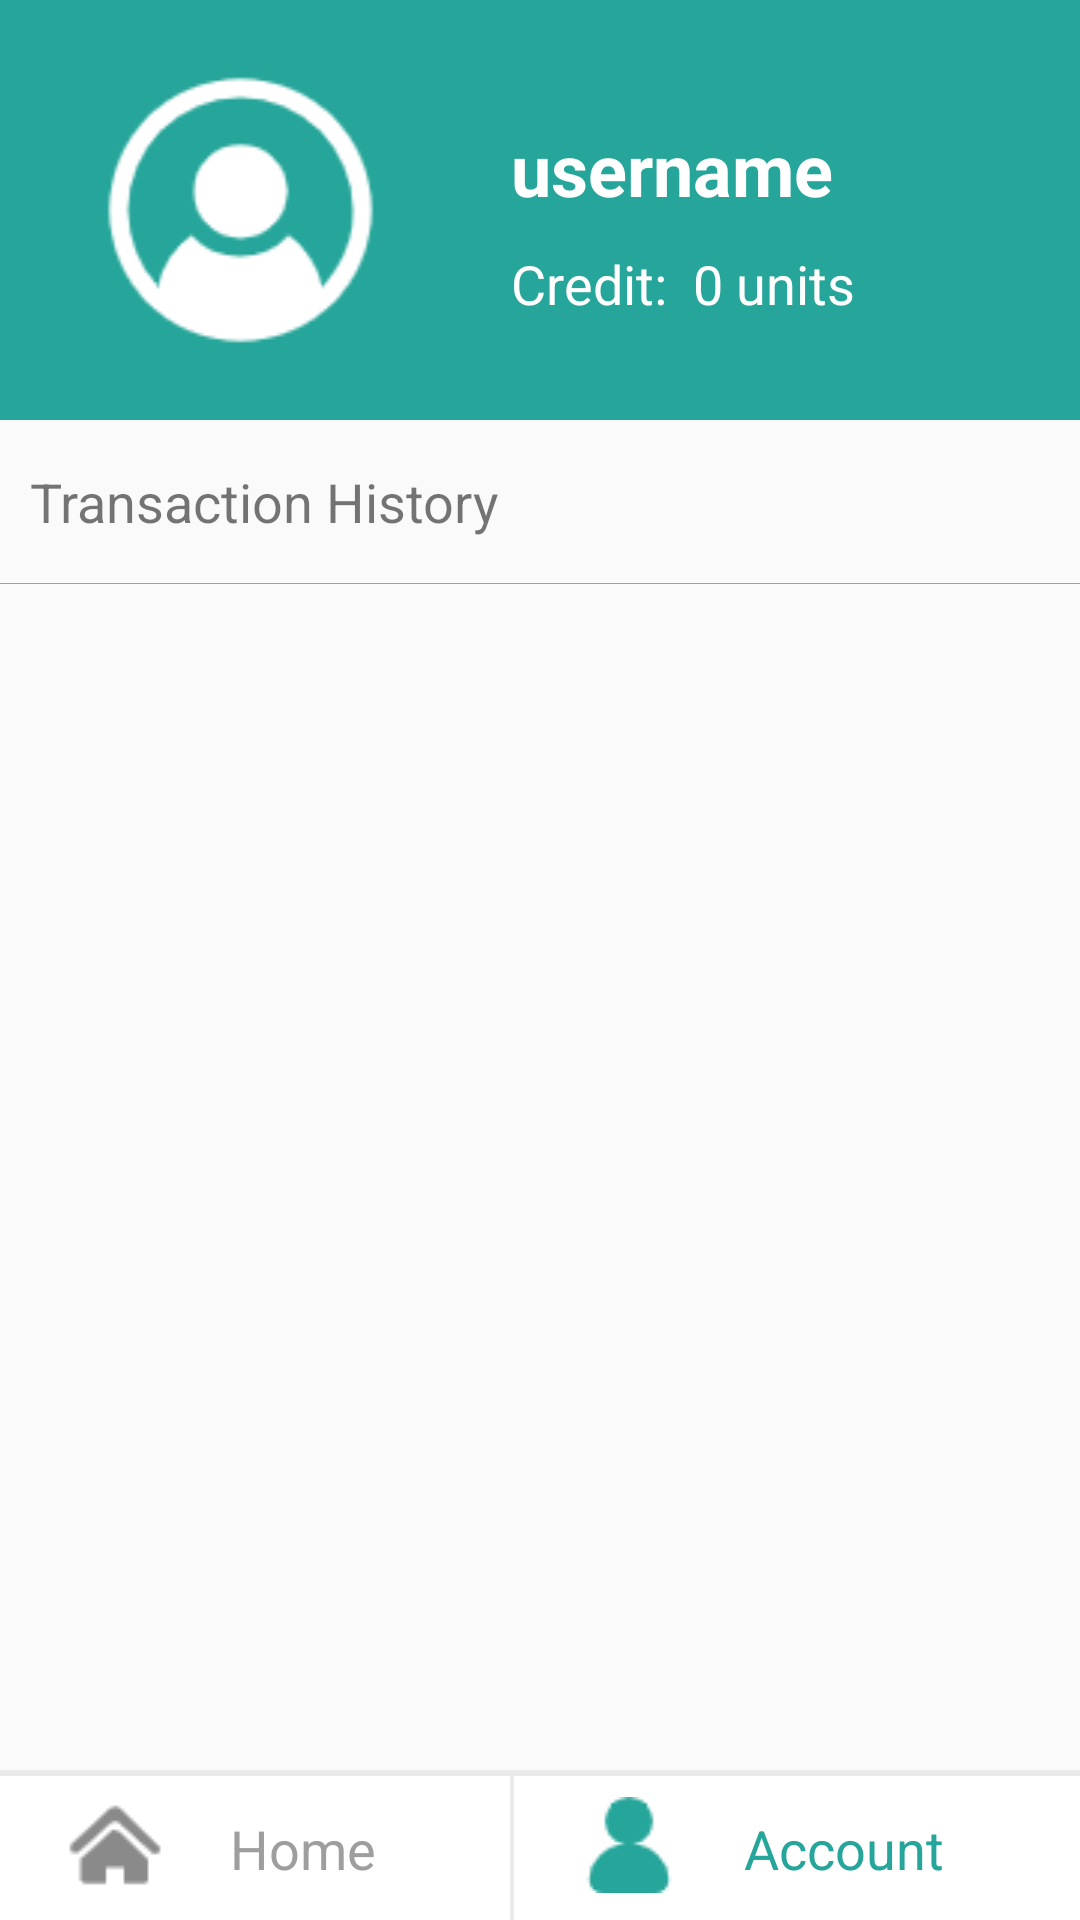

Icon click points for this 1080 × 1920 phone screenshot, format (x=x, y=y):
user account: (x=240, y=210)
user nav: (x=629, y=1845)
